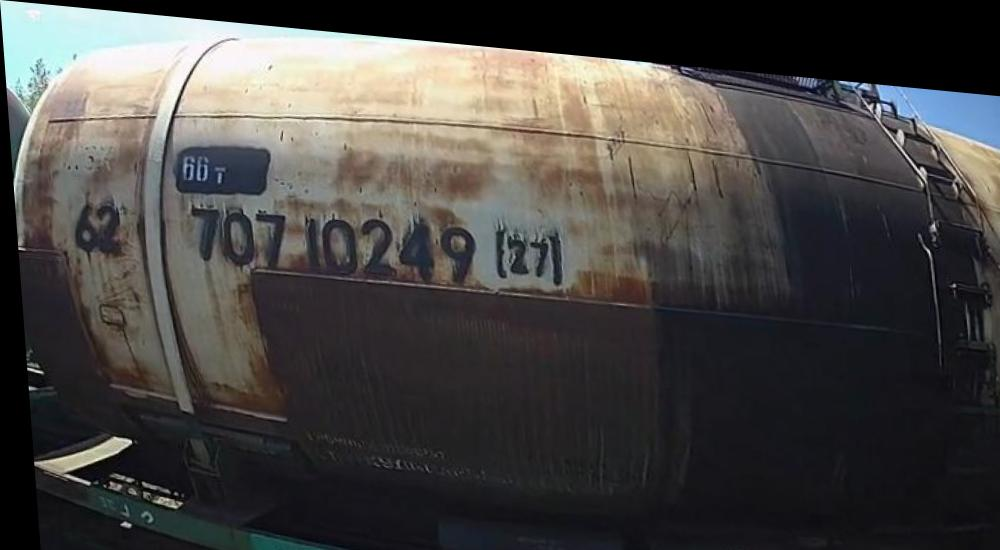Wagon-number: (180, 194, 478, 280)
